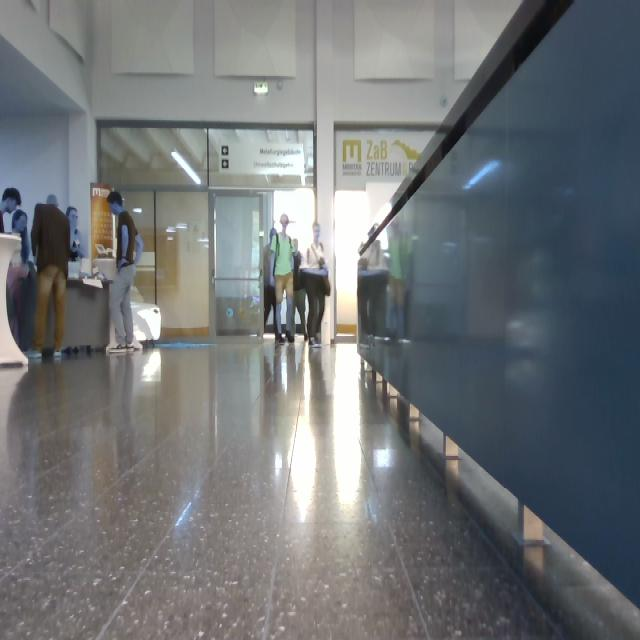door: (155, 191, 210, 339), (213, 192, 264, 337)
light bulb: (462, 159, 501, 191), (171, 151, 202, 187), (254, 81, 269, 96)
person: (31, 194, 71, 357), (107, 190, 144, 352), (1, 188, 34, 352), (270, 214, 299, 345), (305, 222, 331, 348)
staircase: (356, 1, 639, 638)
tiled floor: (2, 337, 567, 638)
